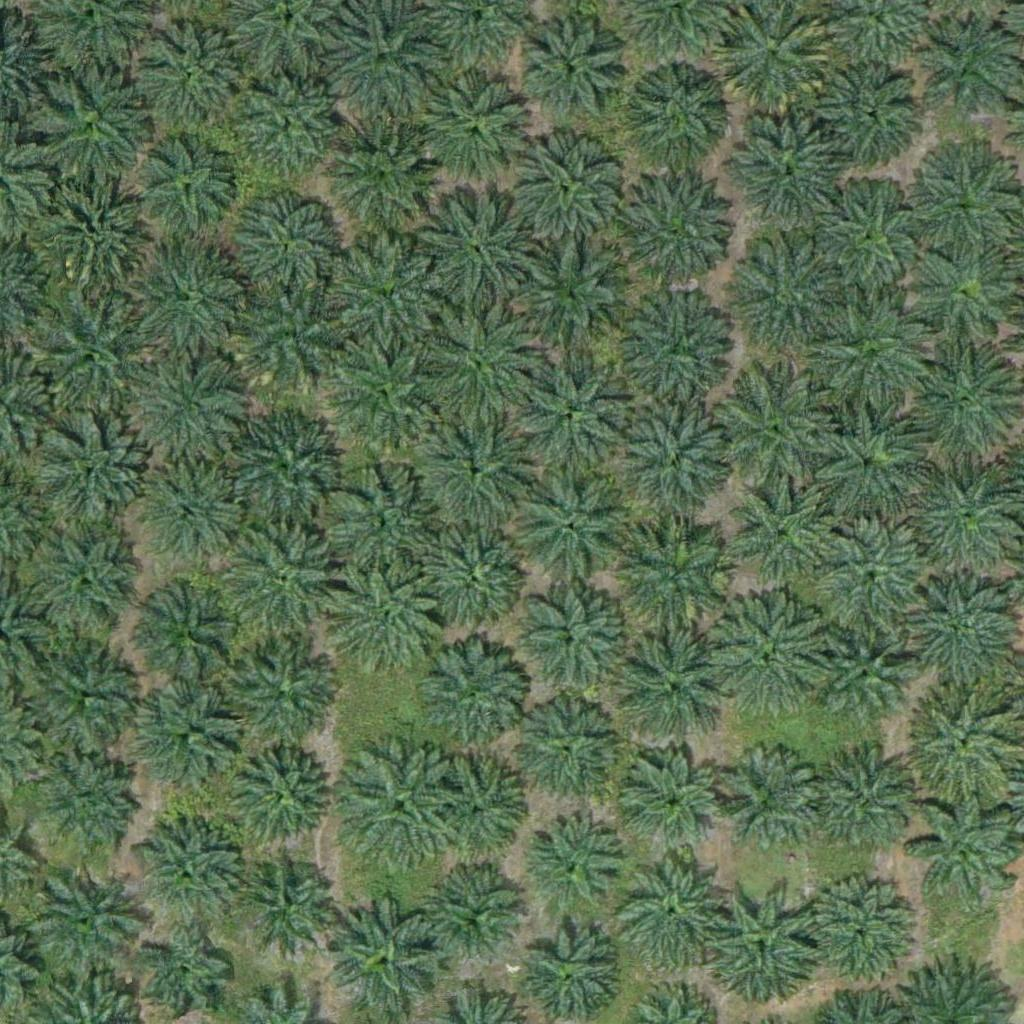Kelapa_Sawit: (317, 1, 442, 127), (810, 176, 935, 302), (39, 162, 164, 288), (29, 285, 154, 411), (30, 414, 155, 540), (23, 634, 148, 760), (125, 352, 250, 478), (126, 242, 251, 368), (223, 405, 348, 531), (219, 516, 344, 642), (327, 561, 452, 687), (320, 463, 445, 589), (412, 300, 537, 426), (414, 404, 539, 530), (410, 511, 535, 637), (406, 632, 531, 758), (508, 582, 633, 708), (508, 465, 633, 591), (615, 168, 740, 294), (618, 286, 743, 412), (614, 512, 739, 638), (613, 628, 738, 754), (711, 368, 836, 494), (718, 236, 843, 362), (723, 108, 848, 234), (807, 299, 932, 425), (801, 402, 926, 528), (809, 524, 934, 650), (896, 575, 1021, 701), (702, 882, 827, 1008), (610, 848, 735, 974), (335, 743, 460, 869), (713, 1, 838, 126), (413, 186, 538, 311), (514, 348, 639, 473), (514, 236, 639, 361), (614, 399, 739, 524), (709, 595, 834, 720), (142, 24, 255, 138), (910, 18, 1023, 131), (28, 527, 141, 640), (234, 70, 347, 183), (327, 234, 440, 347), (229, 189, 342, 302), (236, 287, 349, 400), (910, 790, 1023, 903), (799, 876, 912, 989), (133, 817, 246, 930), (30, 748, 143, 861), (27, 866, 140, 979), (330, 894, 442, 1008), (37, 72, 149, 185), (135, 577, 247, 690), (327, 113, 439, 226), (224, 643, 336, 756), (423, 75, 535, 188), (911, 685, 1023, 798), (817, 59, 917, 160), (627, 59, 727, 160), (522, 19, 622, 120), (137, 139, 237, 240), (335, 340, 435, 441), (517, 142, 617, 243), (734, 486, 834, 587), (815, 752, 915, 853), (714, 751, 814, 852), (624, 754, 724, 855), (512, 701, 612, 802), (524, 817, 624, 918), (426, 750, 526, 851), (147, 472, 247, 572), (915, 248, 1015, 348), (429, 865, 529, 965), (229, 745, 329, 845), (238, 853, 338, 953), (141, 689, 241, 789), (819, 634, 906, 723)
